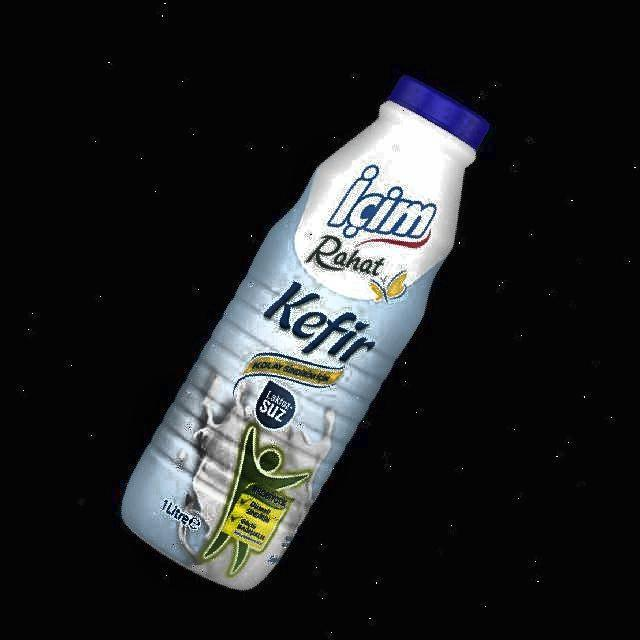plastic: (124, 76, 489, 589)
